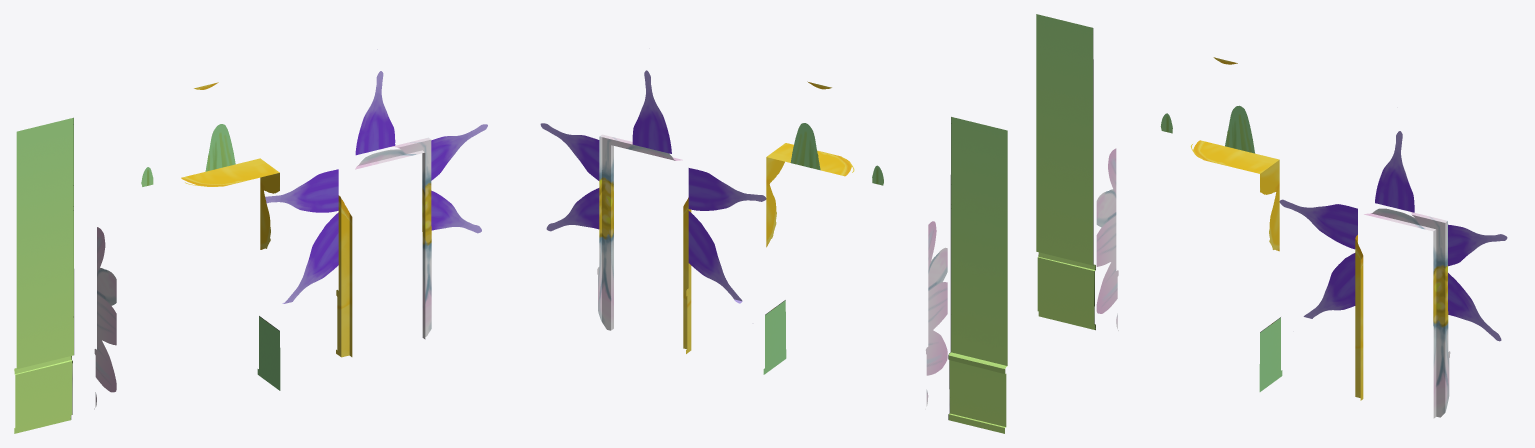
File: Frontwall.fbx
3 renders of one model, left to right at view 1: azimuth 30°, elevation 25°; view 2: azimuth 150°, elevation 25°; view 3: azimuth 330°, elevation 25°, orthographic.
Visible parts, largest first — view 1: front_wall1; view 2: front_wall1; view 3: front_wall1.
Part boxes in pixels (x1,y1,x2,y2): front_wall1: [14, 49, 487, 433]; front_wall1: [540, 70, 1007, 433]; front_wall1: [1036, 14, 1507, 418].
Bounding box in the file's own units: 629 × 380 × 51.33.
